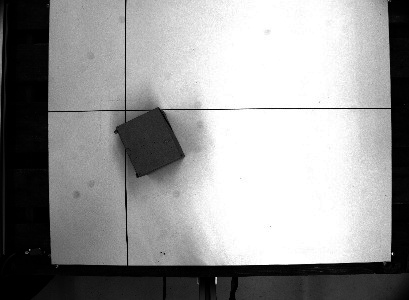b5: (111, 104, 187, 181)
